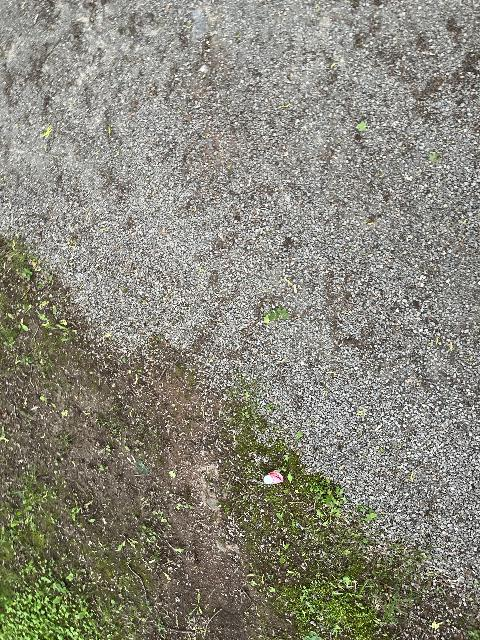can: (260, 471, 283, 484)
